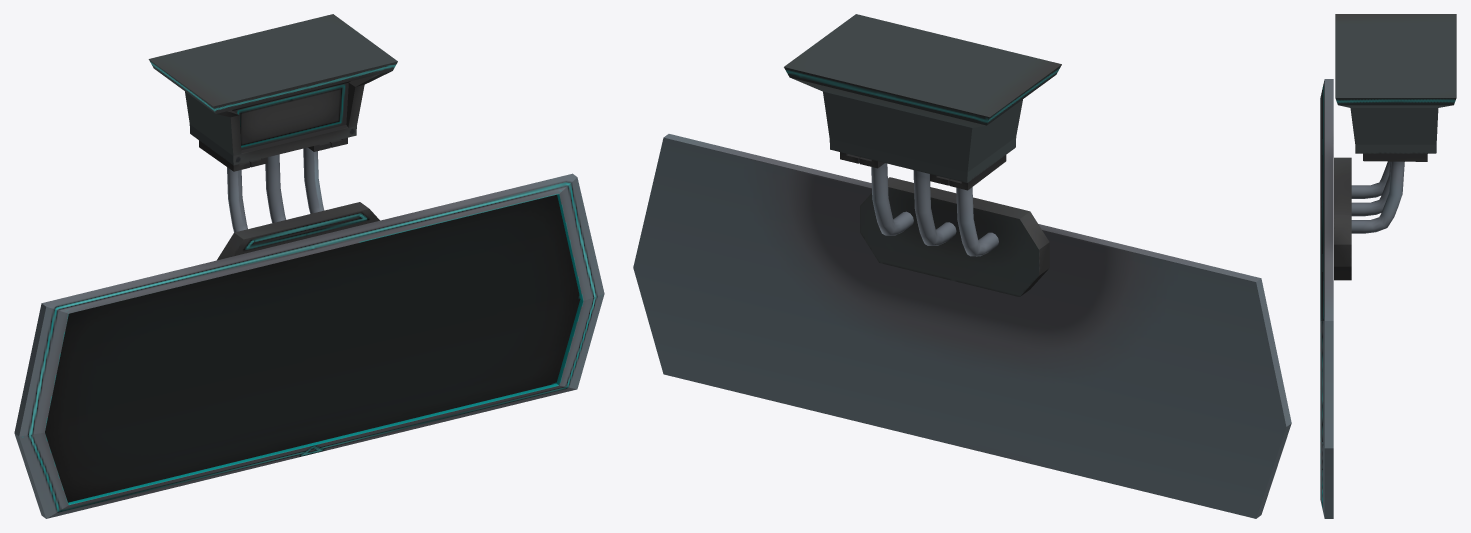
The model's file is monitor.fbx.
The picture shows the model from 3 angles, left to right: view 1: azimuth 30°, elevation 25°; view 2: azimuth 150°, elevation 25°; view 3: azimuth 270°, elevation 25°; orthographic projection. The views are drawn at different scales.
Parts seen in each view (by area): view 1: Plane; view 2: Plane; view 3: Plane.
Boxes of the visible parts, <box> form: Plane: <box>14,14,604,518</box>; Plane: <box>633,14,1291,518</box>; Plane: <box>1320,14,1456,518</box>.
Bounding box in the file's own units: 629 × 376 × 136.
